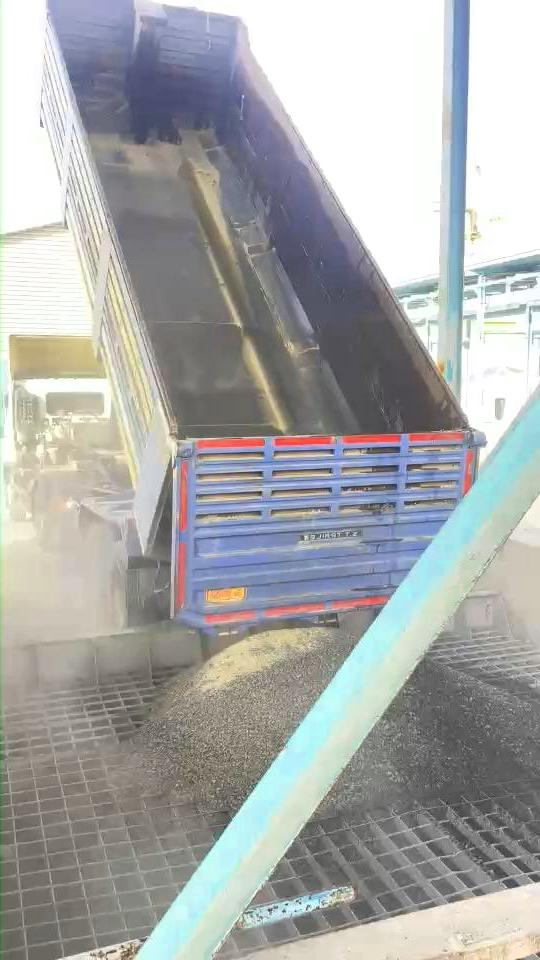gravel: (129, 629, 358, 809), (323, 660, 540, 809)
